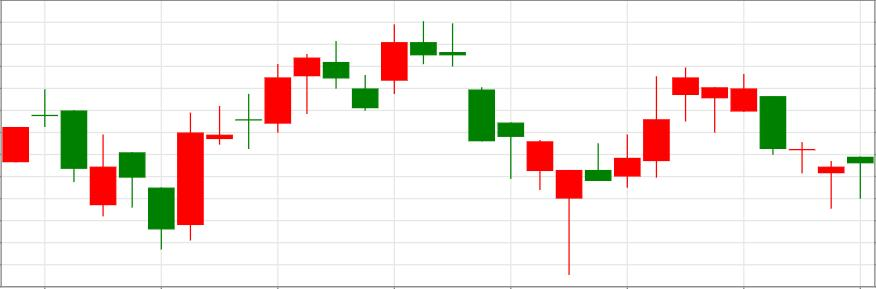hammer_rise: (381, 20, 584, 276)
